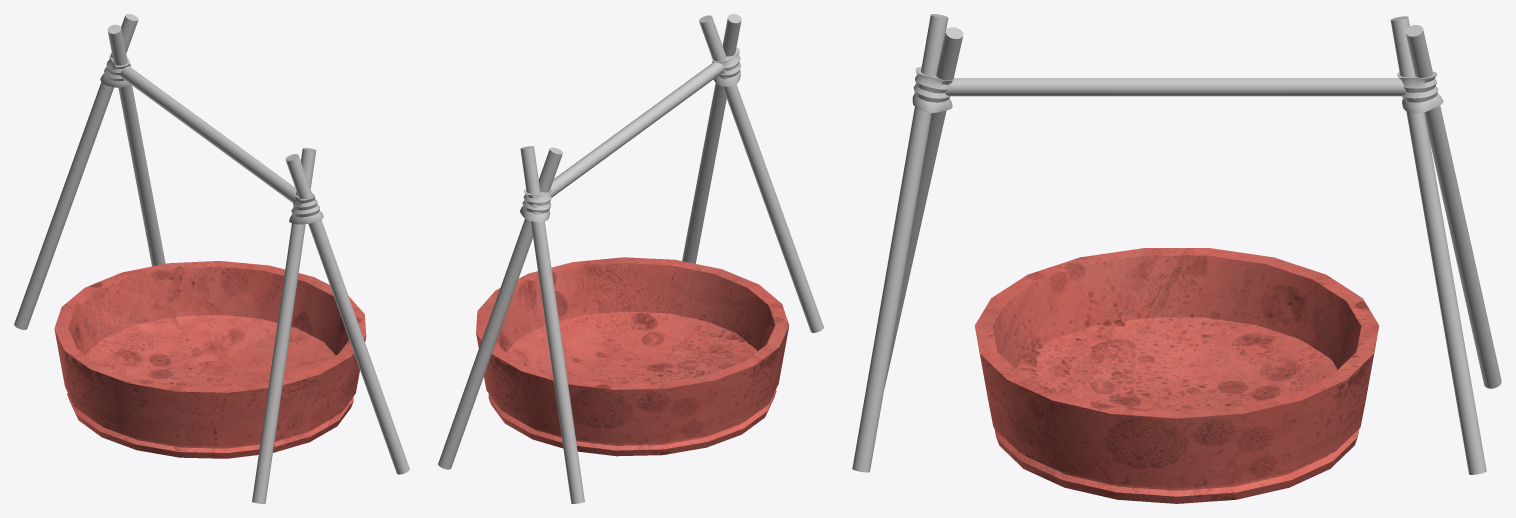
File: spitunwrapped.fbx
3 views of the same model, side by side, from view 1: azimuth 30°, elevation 25°; view 2: azimuth 150°, elevation 25°; view 3: azimuth 270°, elevation 25° (orthographic). The views are drawn at different scales.
Parts seen in each view (by area): view 1: Cylinder015; view 2: Cylinder015; view 3: Cylinder015.
Boxes of the visible parts, box(x1,y1,x2,y2) form: Cylinder015: box(14, 14, 409, 503); Cylinder015: box(438, 14, 823, 503); Cylinder015: box(852, 14, 1501, 503).
Size of the model in its own units: 128 by 143 by 206.
